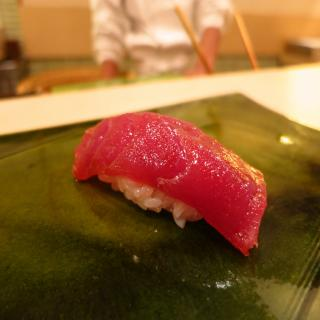Sushi: (69, 102, 262, 250)
